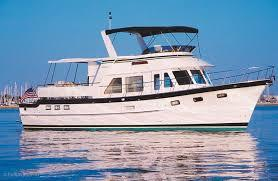Ship: (20, 29, 273, 128)
